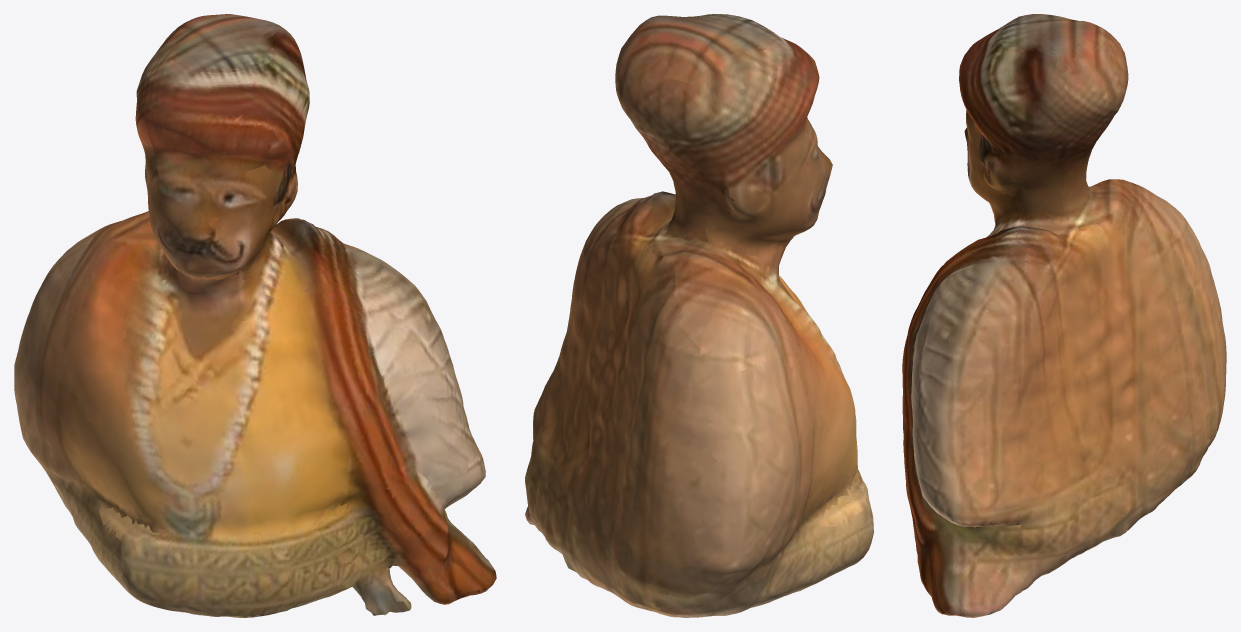
Rendered from Calcutta.glb.
3 views of the same model, side by side, from view 1: azimuth 30°, elevation 25°; view 2: azimuth 150°, elevation 25°; view 3: azimuth 270°, elevation 25° (orthographic). The views are drawn at different scales.
Parts seen in each view (by area): view 1: calcutta_Figurehead; view 2: calcutta_Figurehead; view 3: calcutta_Figurehead.
Part boxes in pixels (x1,y1,x2,y2): calcutta_Figurehead: (14, 14, 496, 617); calcutta_Figurehead: (525, 14, 873, 617); calcutta_Figurehead: (902, 14, 1226, 617).
Size of the model in its own units: 2.62 by 4 by 2.33.
Materials: 1 (1 with a texture image).
